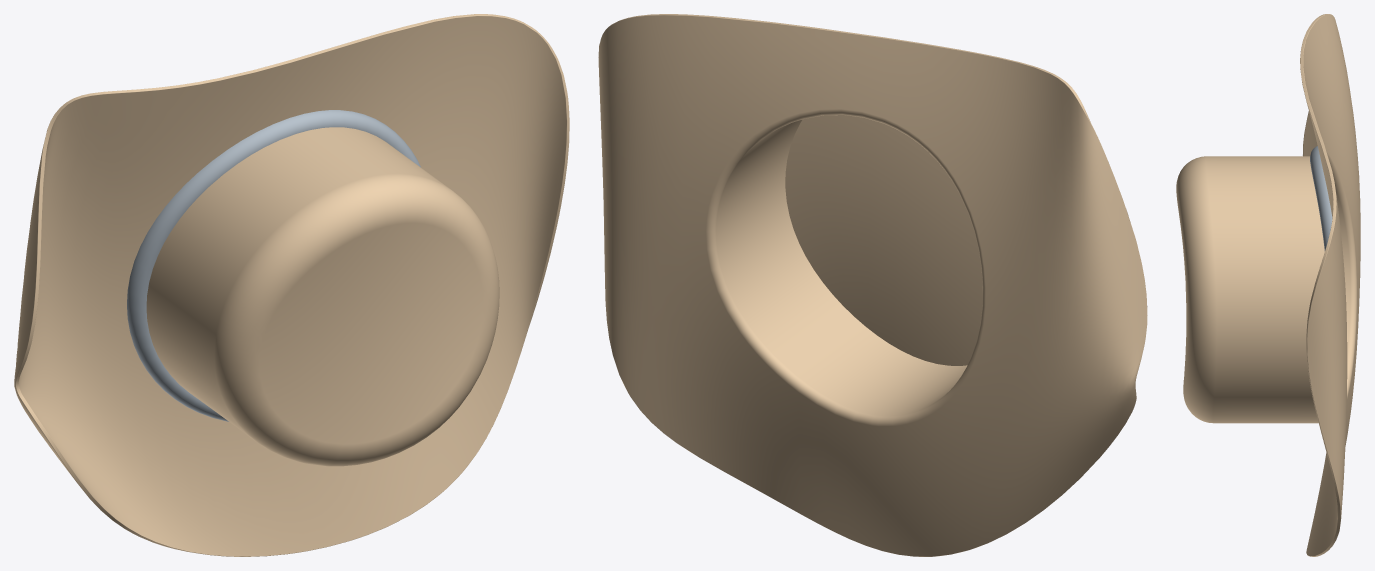
File: Floppy.glb
3 views of the same model, side by side, from view 1: azimuth 30°, elevation 25°; view 2: azimuth 150°, elevation 25°; view 3: azimuth 270°, elevation 25° (orthographic). The views are drawn at different scales.
Bounding box in the file's own units: 20.32 × 18.18 × 7.11.
